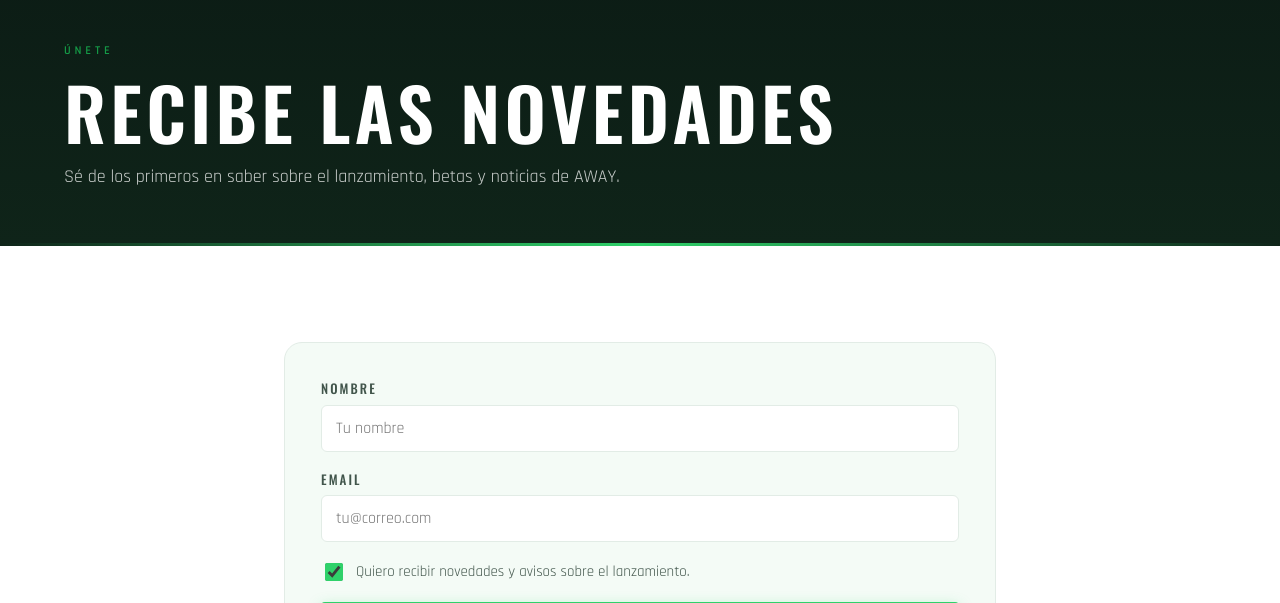
Test: Registro › muestra mensaje de éxito al suscribirse correctamente
Type "Ana" into the field labelled "Nombre" at [640, 428], box [321,405,959,452]
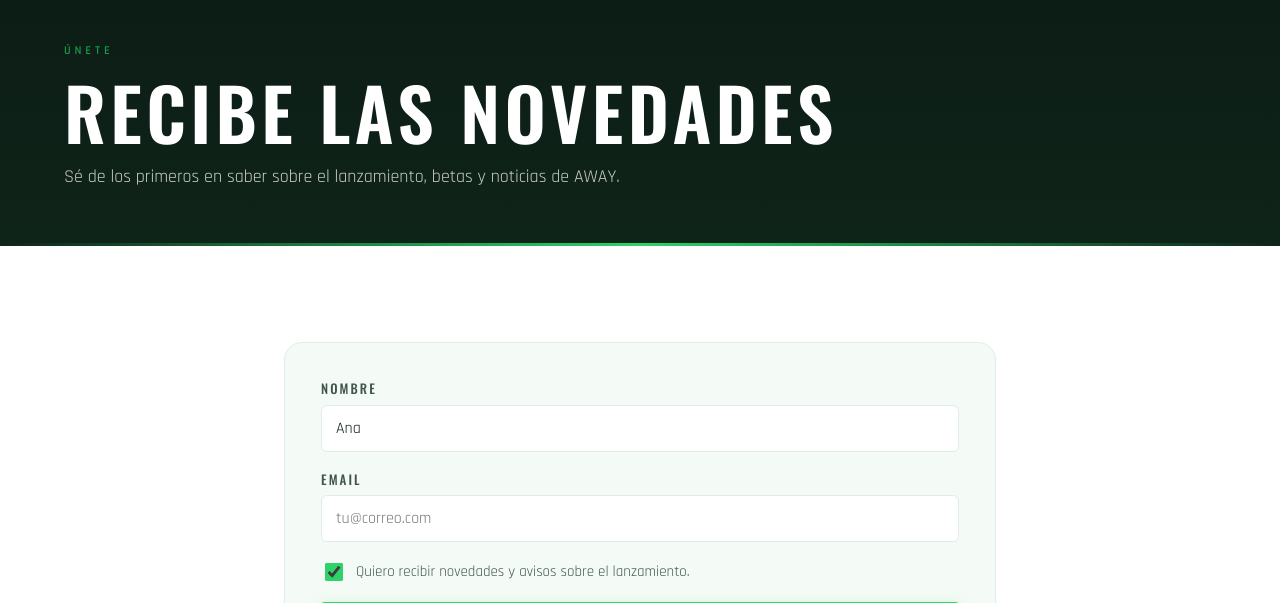
Type "ana@test.com" into the field labelled "Email" at [640, 519], box [321,495,959,542]
(page scrolled)
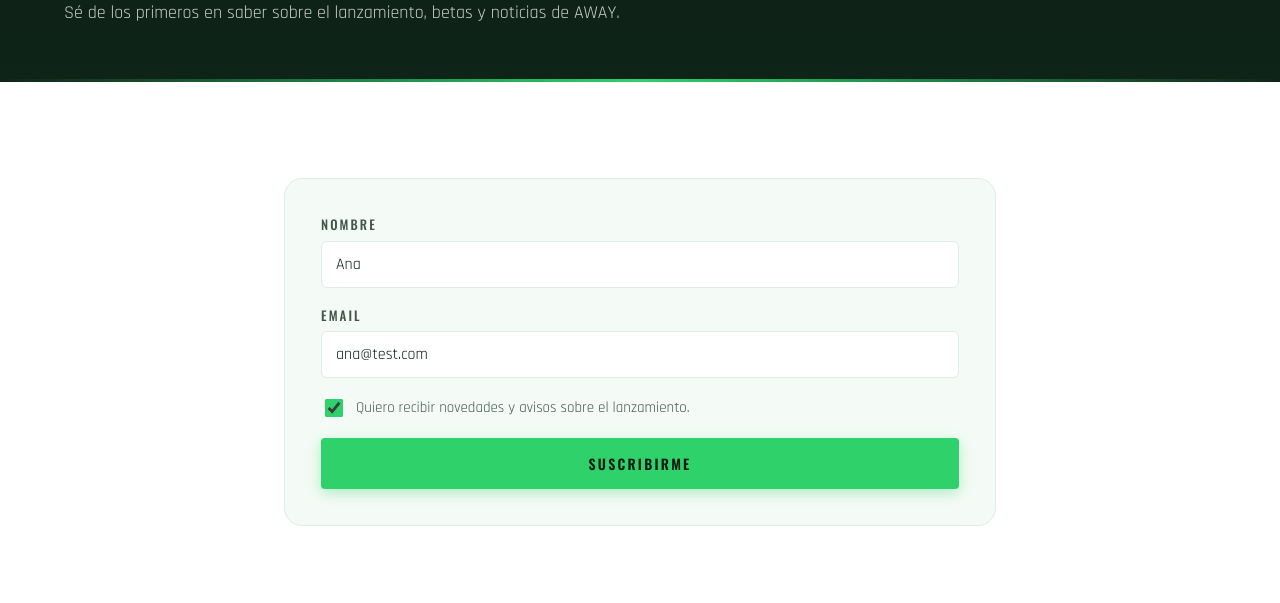
Click the button "Suscribirme" at [640, 464], box [321,438,959,489]
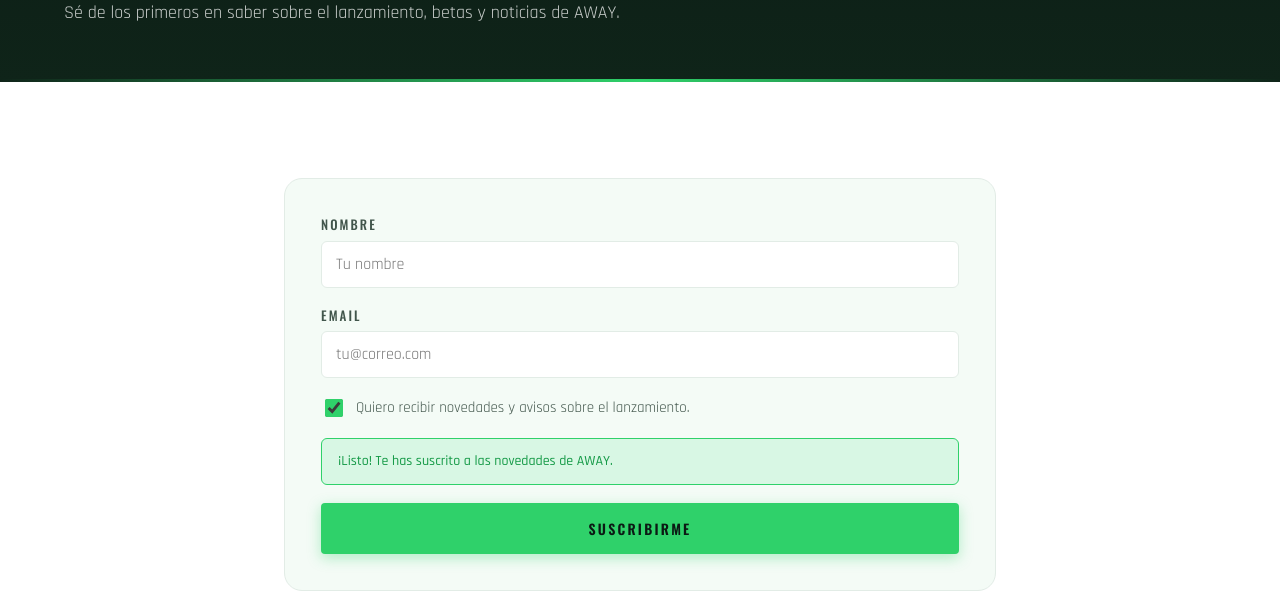
Check: the text "¡Listo! Te has suscrito a las novedades de AWAY." is shown, box [321,438,959,485]
